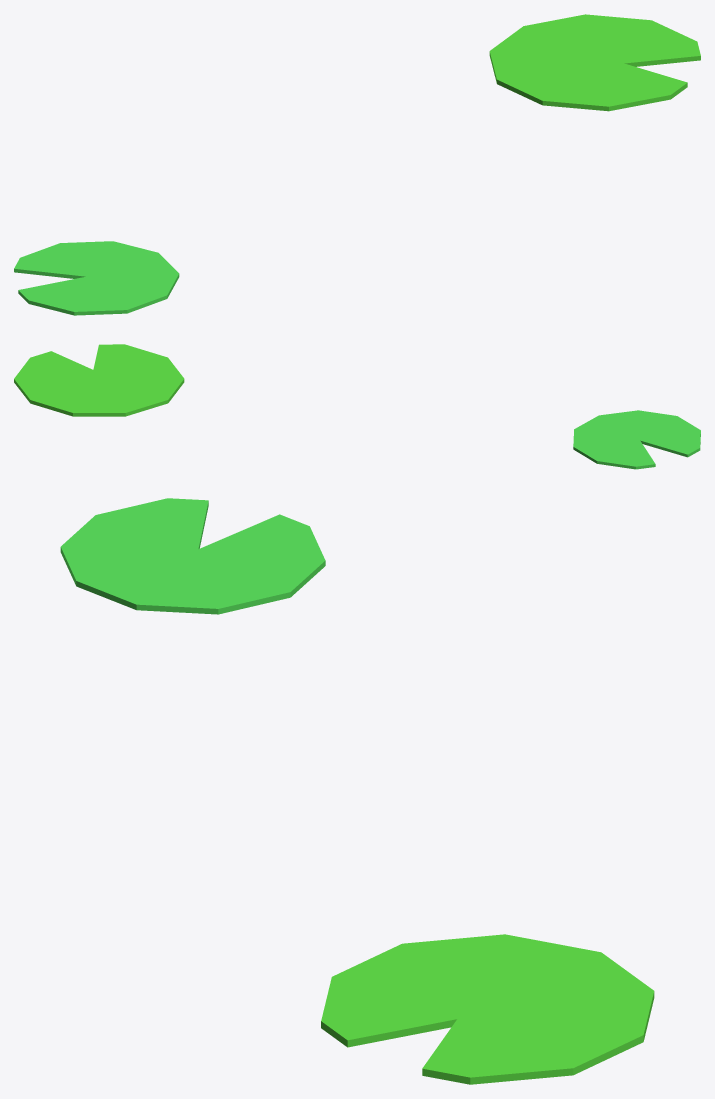
File: Shoot That Bird! Lilly Pods.fbx
3 views of the same model, one above another, from view 1: azimuth 30°, elevation 25°; view 2: azimuth 150°, elevation 25°; view 3: azimuth 270°, elevation 25° (orthographic). The views are drawn at different scales.
Parts seen in each view (by area): view 1: Lilly Pad Right, Lilly Pad Left; view 2: Lilly Pad Right, Lilly Pad Left; view 3: Lilly Pad Right, Lilly Pad Left.
Part boxes in pixels (<box>): Lilly Pad Right: <box>489,14,700,111</box>; Lilly Pad Left: <box>14,241,179,315</box>; Lilly Pad Right: <box>14,344,184,416</box>; Lilly Pad Left: <box>573,410,700,469</box>; Lilly Pad Right: <box>321,934,654,1084</box>; Lilly Pad Left: <box>60,498,325,614</box>.
Bounding box in the file's own units: 2020 × 11.61 × 873.
